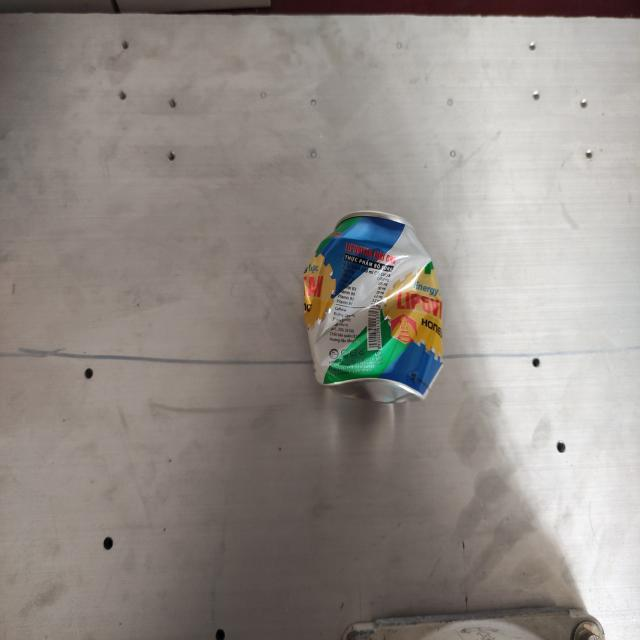kimloai: (304, 212, 442, 402)
